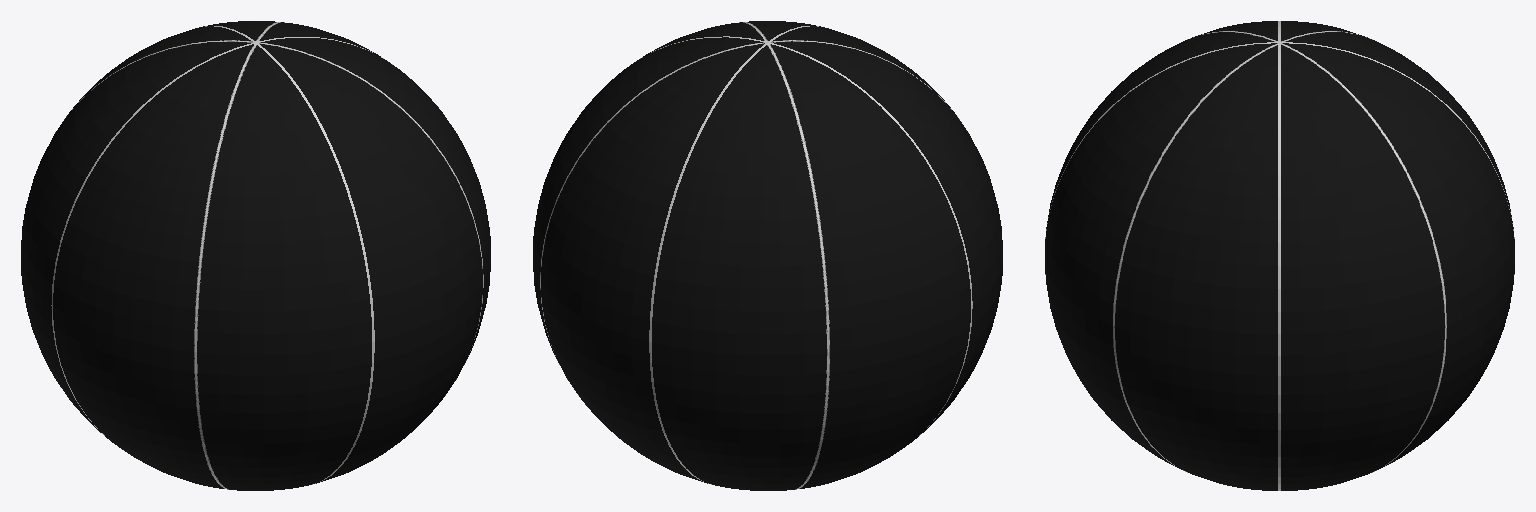
3 renders of one model, left to right at view 1: azimuth 30°, elevation 25°; view 2: azimuth 150°, elevation 25°; view 3: azimuth 270°, elevation 25°, orthographic.
Visible parts, largest first — view 1: 球_球.001; view 2: 球_球.001; view 3: 球_球.001.
Boxes of the visible parts, box(x1,y1,x2,y2) form: 球_球.001: box(21, 21, 490, 490); 球_球.001: box(533, 21, 1002, 490); 球_球.001: box(1045, 21, 1514, 490).
Bounding box in the file's own units: 2 × 2 × 2.
1 materials, 1 textured.